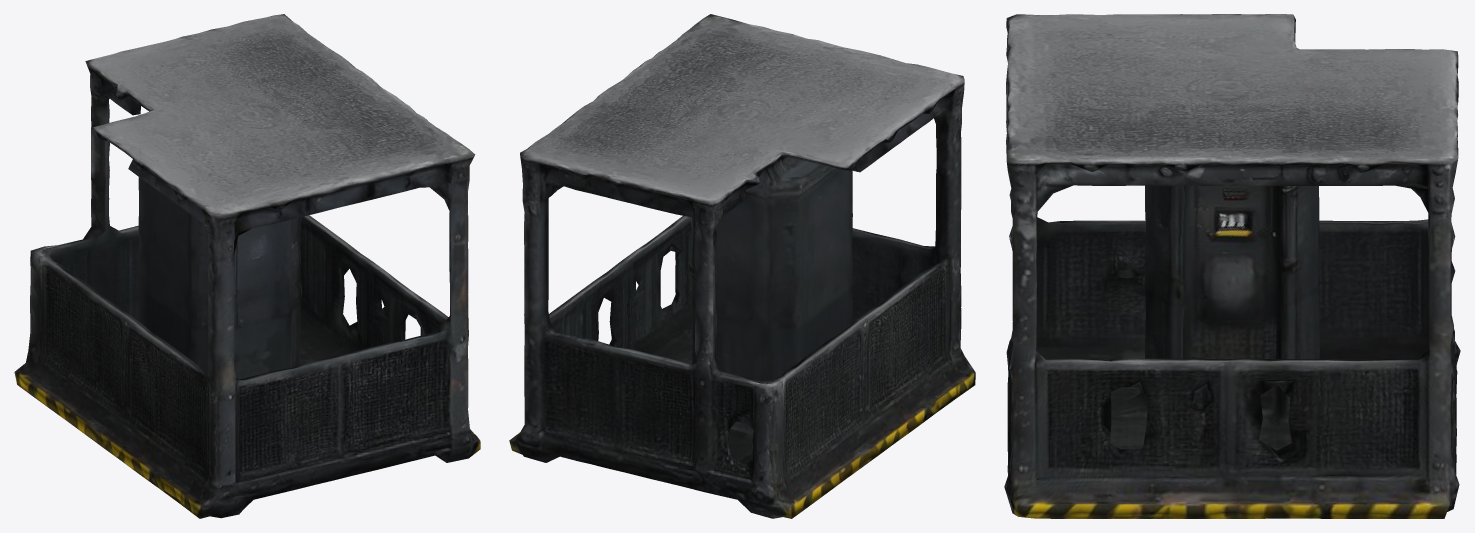
The model's file is xd_lift.glb.
3 renders of one model, left to right at view 1: azimuth 30°, elevation 25°; view 2: azimuth 150°, elevation 25°; view 3: azimuth 270°, elevation 25°, orthographic. The views are drawn at different scales.
Visible parts, largest first — view 1: tripo_node_38d0064b-7dba-4b2c-b391-ab3f988b2fa7; view 2: tripo_node_38d0064b-7dba-4b2c-b391-ab3f988b2fa7; view 3: tripo_node_38d0064b-7dba-4b2c-b391-ab3f988b2fa7.
Boxes of the visible parts, x1,y1,x2,y2 form: tripo_node_38d0064b-7dba-4b2c-b391-ab3f988b2fa7: (14,14,480,518); tripo_node_38d0064b-7dba-4b2c-b391-ab3f988b2fa7: (509,14,975,518); tripo_node_38d0064b-7dba-4b2c-b391-ab3f988b2fa7: (1004,14,1460,518).
Bounding box in the file's own units: 0.8161 × 0.8471 × 0.9845.
1 material, 1 textured.
